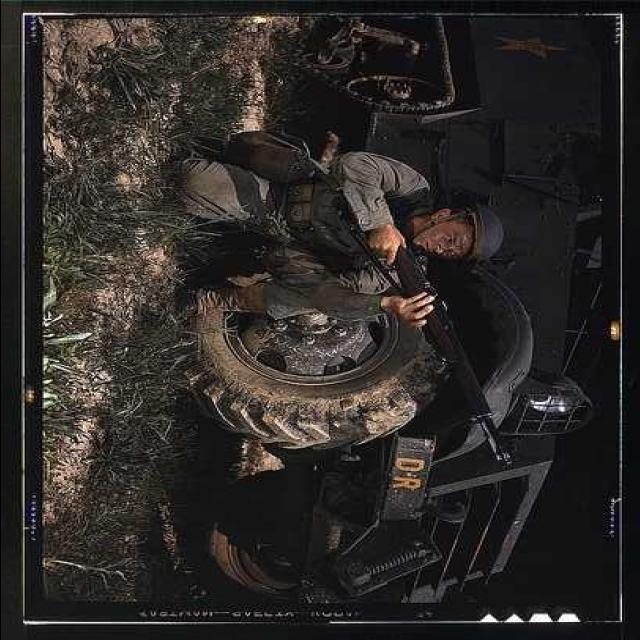heavyweapon: (332, 200, 518, 478)
